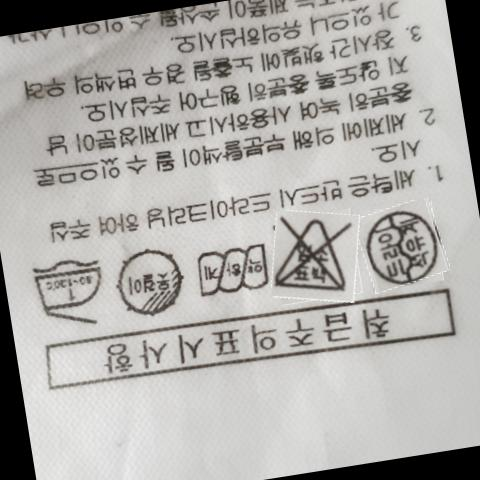dry_clean_petrol_only: (368, 204, 440, 289)
iron_low: (34, 255, 111, 325)
line_dry_in_shade: (115, 243, 193, 322)
non_chlorine_bleach: (278, 217, 354, 293)
wring: (197, 238, 272, 303)
